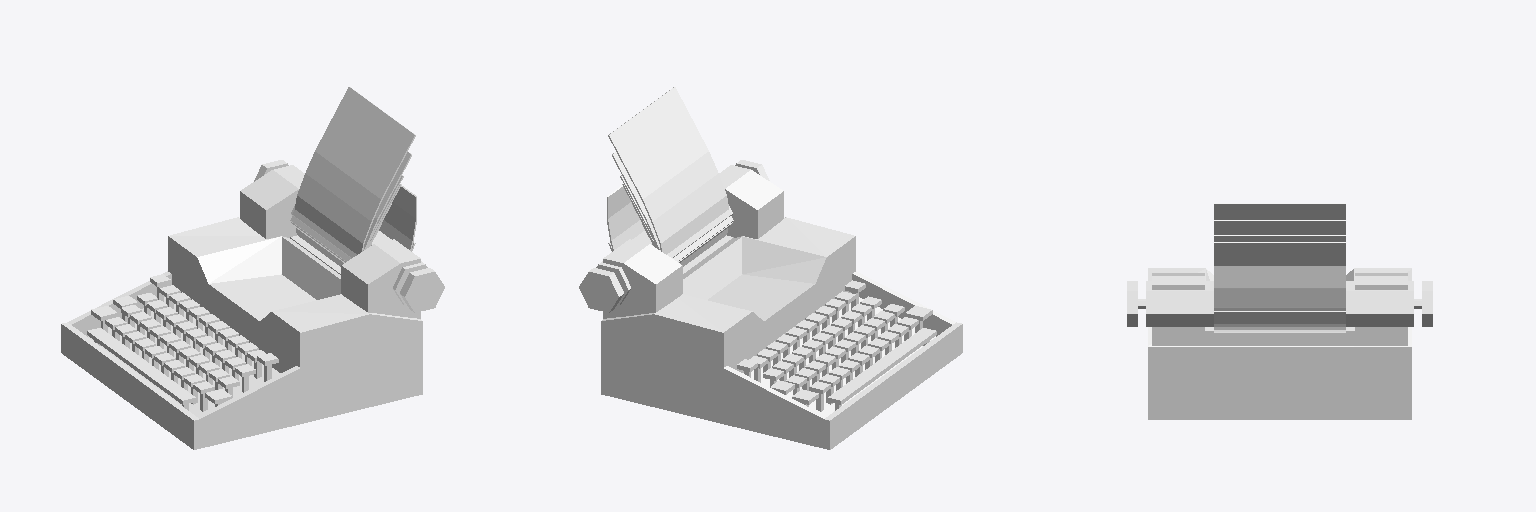
File: typewriter.obj
3 renders of one model, left to right at view 1: azimuth 30°, elevation 25°; view 2: azimuth 150°, elevation 25°; view 3: azimuth 270°, elevation 25°, orthographic.
Visible parts, largest first — view 1: base, paperLine7, slide, paperLine1, paperLine6; view 2: base, paperLine7, slide, paperLine1, paperLine6; view 3: base, slide, paperLine3, paperLine1, paperLine2, paperLine7, paperLine6, paperLine4, paperLine5.
Part boxes in pixels (x1,y1,x2,y2): base: (61, 217, 422, 449); paperLine7: (295, 87, 415, 254); slide: (240, 160, 444, 318); paperLine1: (369, 185, 416, 250); paperLine6: (292, 152, 411, 257); base: (601, 217, 962, 449); paperLine7: (608, 87, 728, 254); slide: (579, 160, 783, 318); paperLine1: (607, 185, 654, 250); paperLine6: (612, 152, 731, 257); base: (1148, 268, 1411, 419); slide: (1127, 273, 1432, 345); paperLine3: (1214, 255, 1345, 329); paperLine1: (1214, 266, 1345, 307); paperLine2: (1214, 289, 1345, 326); paperLine7: (1214, 203, 1345, 219); paperLine6: (1214, 220, 1345, 234); paperLine4: (1214, 242, 1345, 254); paperLine5: (1214, 235, 1345, 332).
Size of the model in its own units: 0.5669 by 0.4835 by 0.5854.